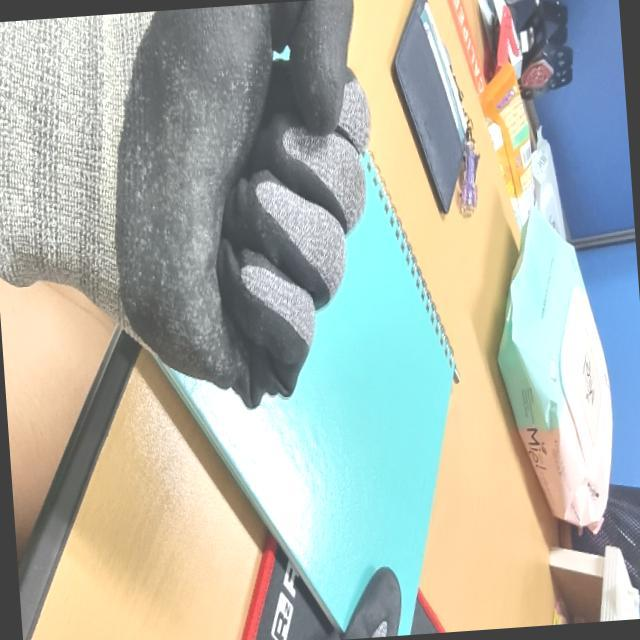Gloves: (0, 0, 367, 410)
